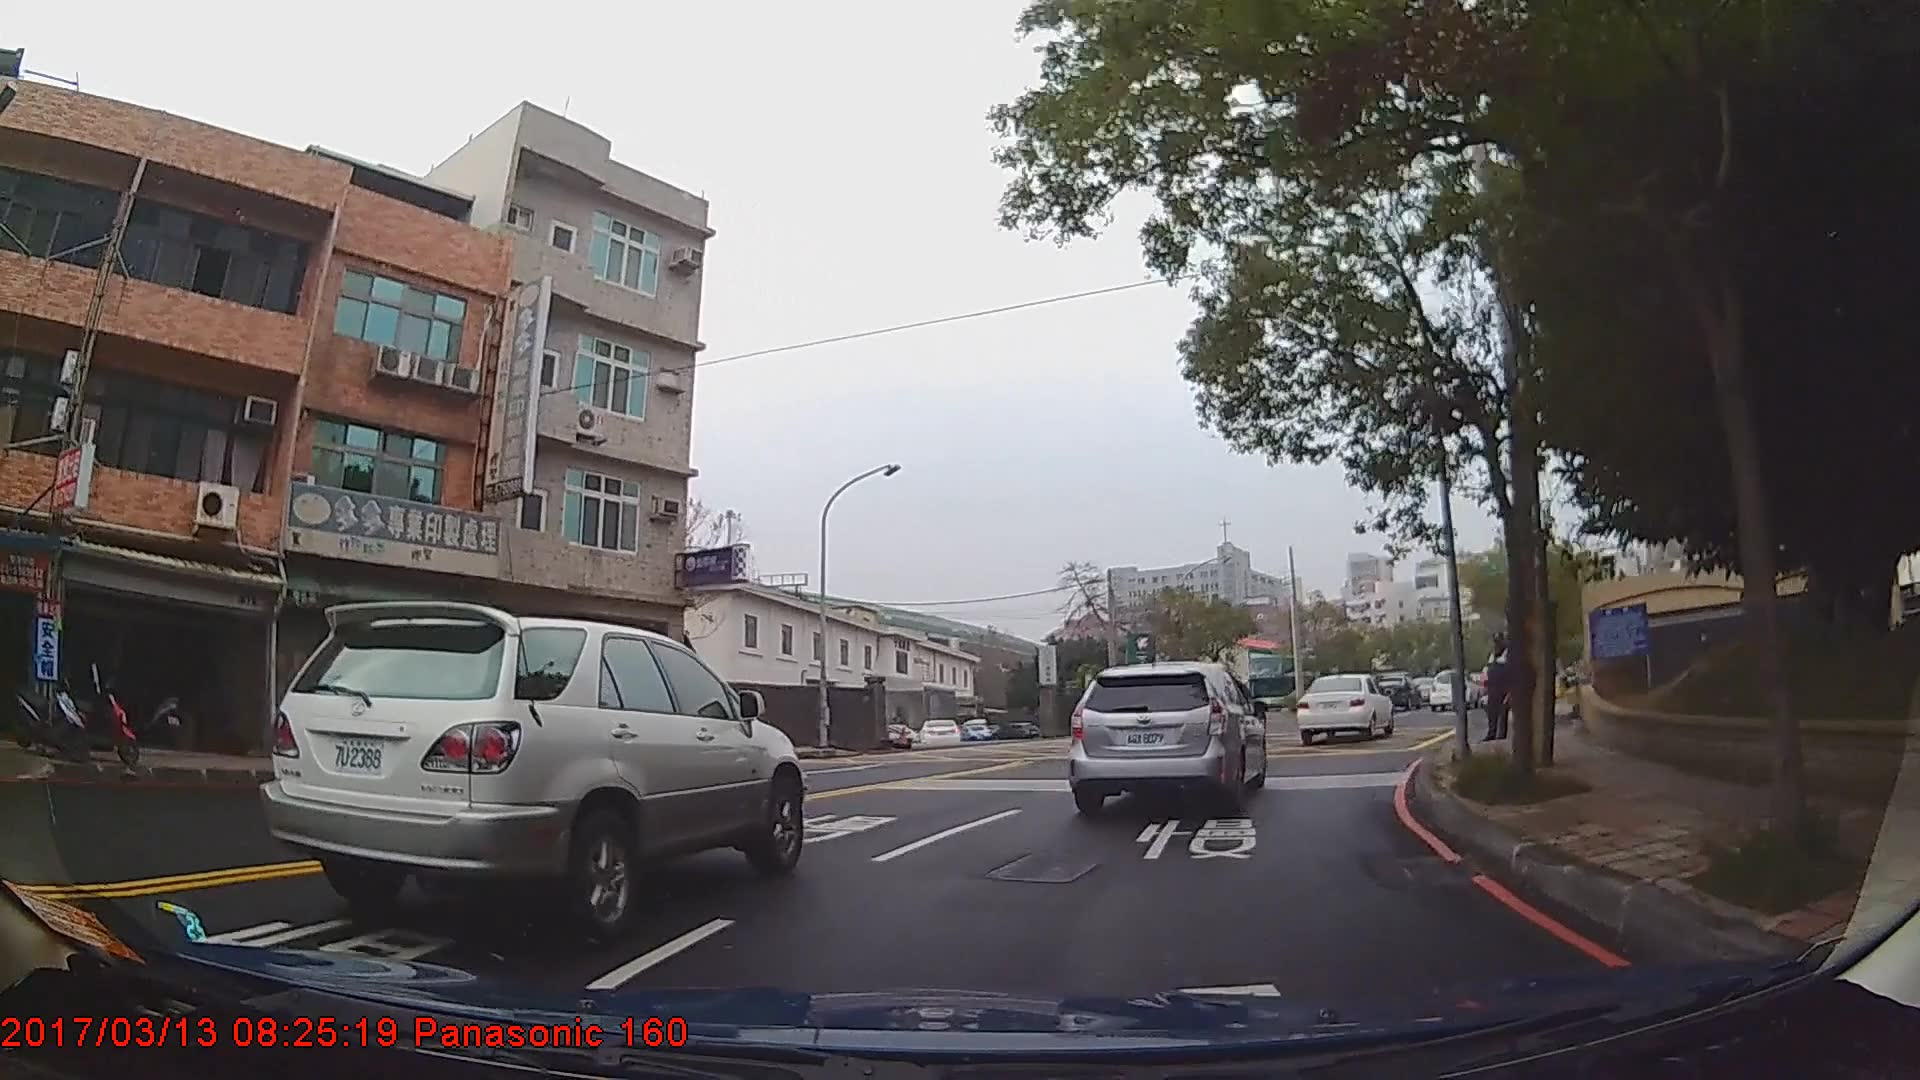pedestrian: (1486, 635, 1522, 745)
vehicle: (259, 602, 805, 950), (1065, 658, 1266, 811), (1293, 674, 1395, 742), (1426, 665, 1477, 712), (918, 718, 963, 747), (984, 720, 1039, 740)
